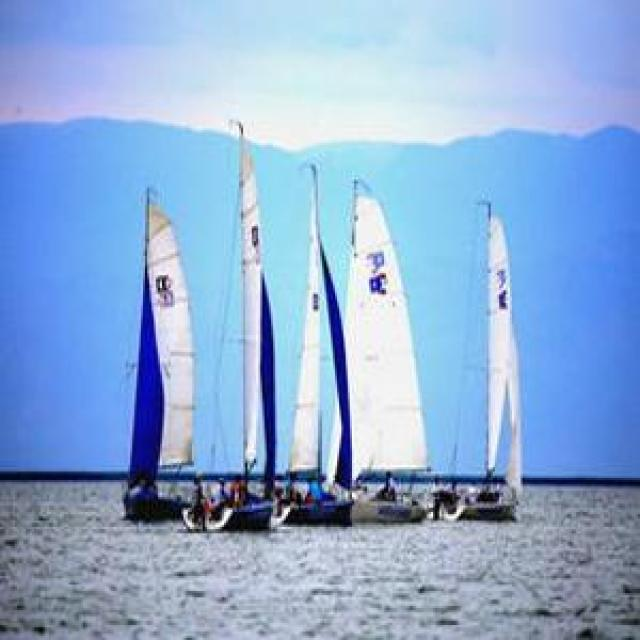sailboat: (203, 121, 289, 531), (340, 179, 436, 525), (112, 188, 211, 518), (441, 194, 524, 518), (286, 162, 358, 519)
